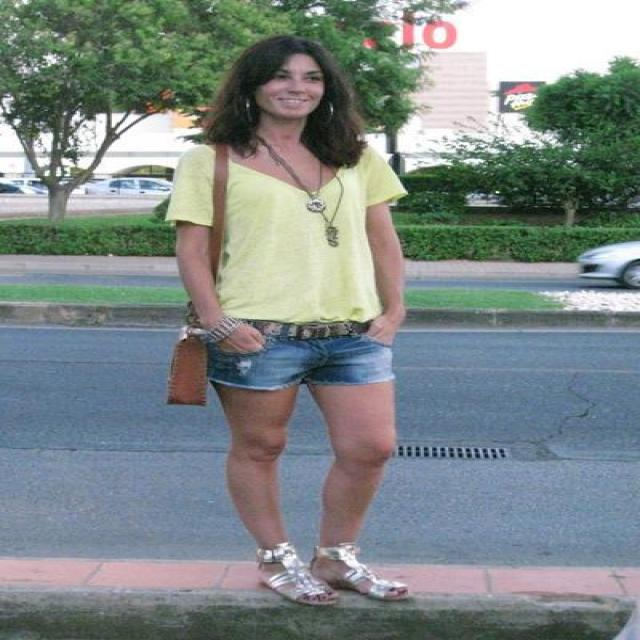bag: (168, 328, 237, 406)
shirt: (165, 141, 406, 322)
shoe: (248, 536, 382, 575)
shorts: (206, 320, 394, 598)
